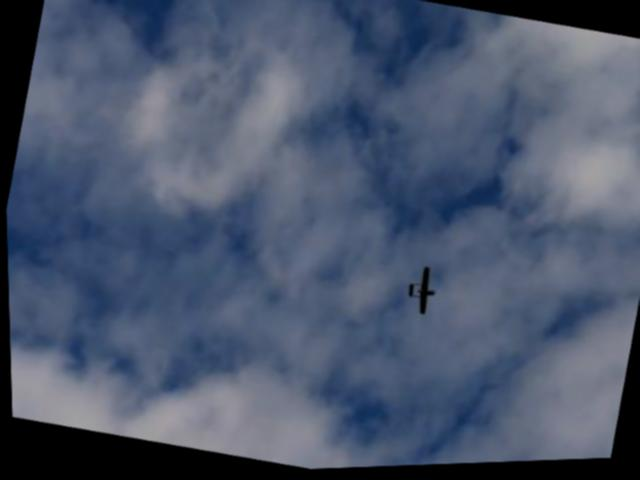uav: (397, 263, 442, 323)
